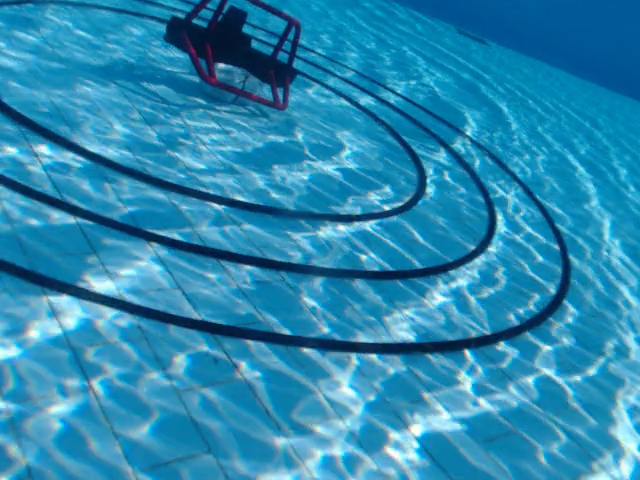submarine: (159, 1, 303, 117)
